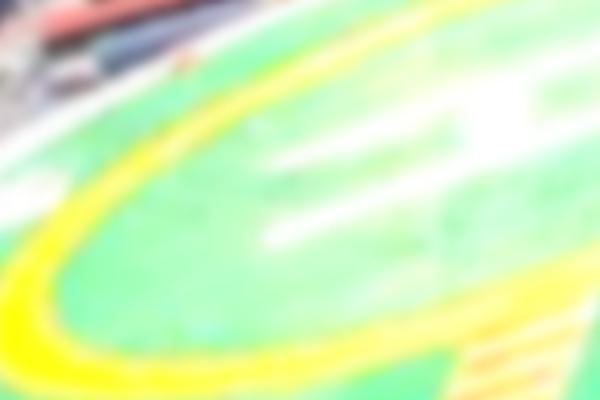Apron: (1, 1, 599, 398)
